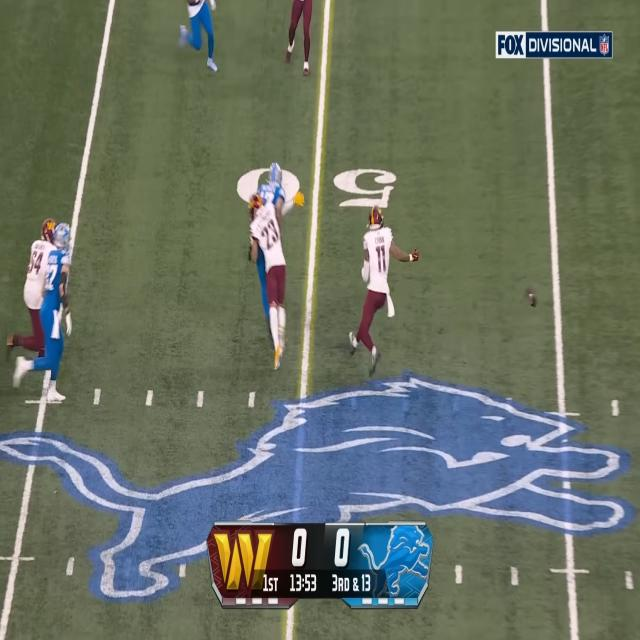Ball: (527, 286, 537, 310)
